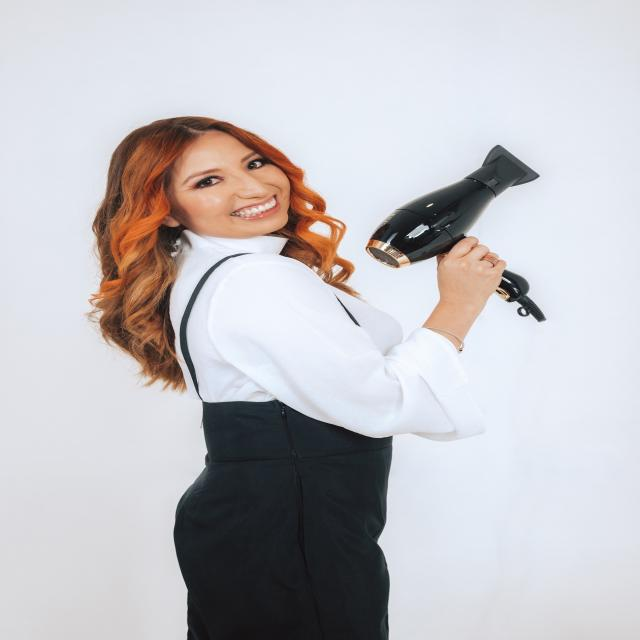dryer: (364, 142, 548, 322)
